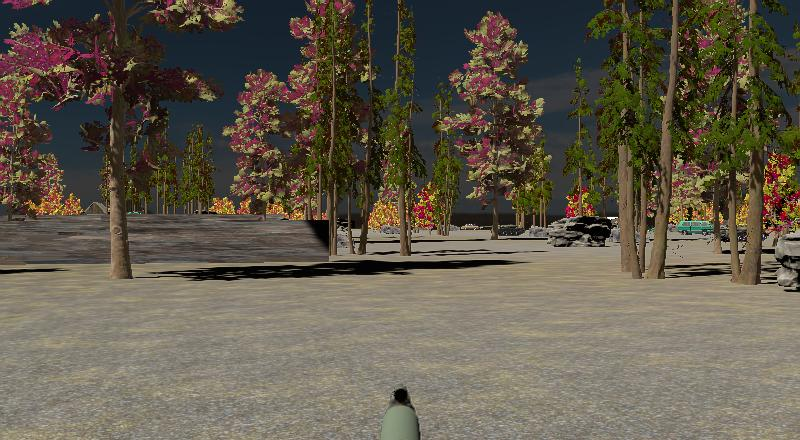Tank: (712, 222, 752, 243), (494, 223, 525, 238)
car: (676, 219, 718, 237)
